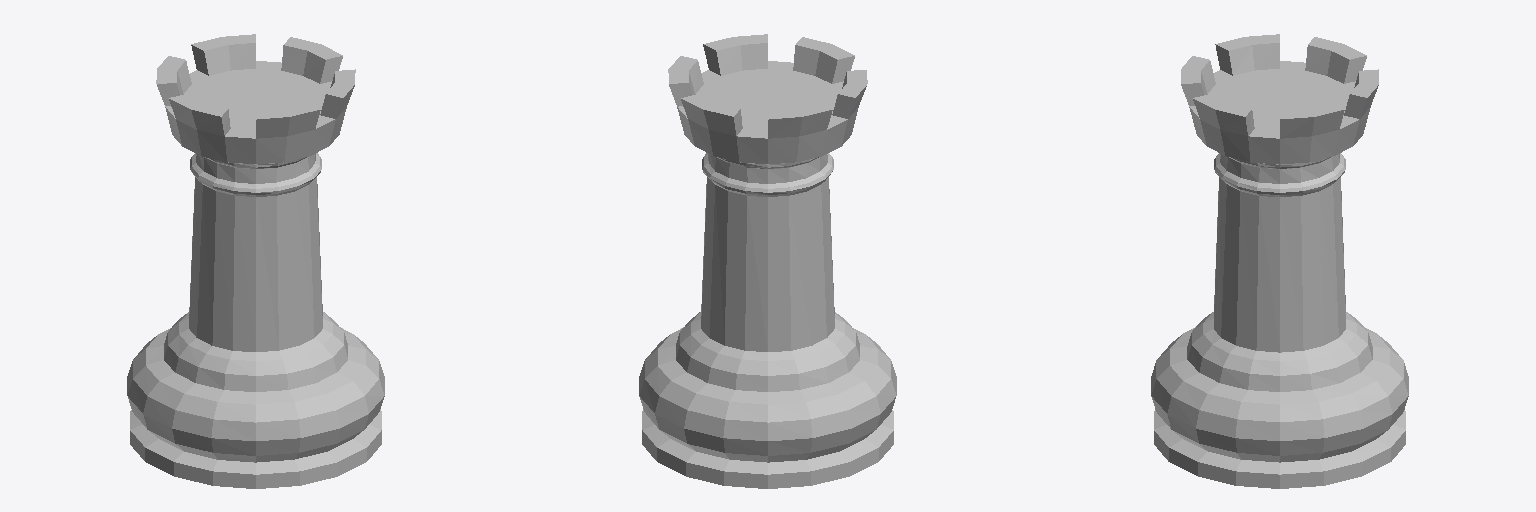
Rendered from light_rook.obj.
3 views of the same model, side by side, from view 1: azimuth 30°, elevation 25°; view 2: azimuth 150°, elevation 25°; view 3: azimuth 270°, elevation 25° (orthographic).
Visible parts, largest first — view 1: chess_set_light_rook02; view 2: chess_set_light_rook02; view 3: chess_set_light_rook02.
Part boxes in pixels (x1,y1,x2,y2): chess_set_light_rook02: (127, 34, 384, 488); chess_set_light_rook02: (639, 34, 896, 488); chess_set_light_rook02: (1151, 34, 1408, 488).
Bounding box in the file's own units: 0.031 × 0.047 × 0.0306.